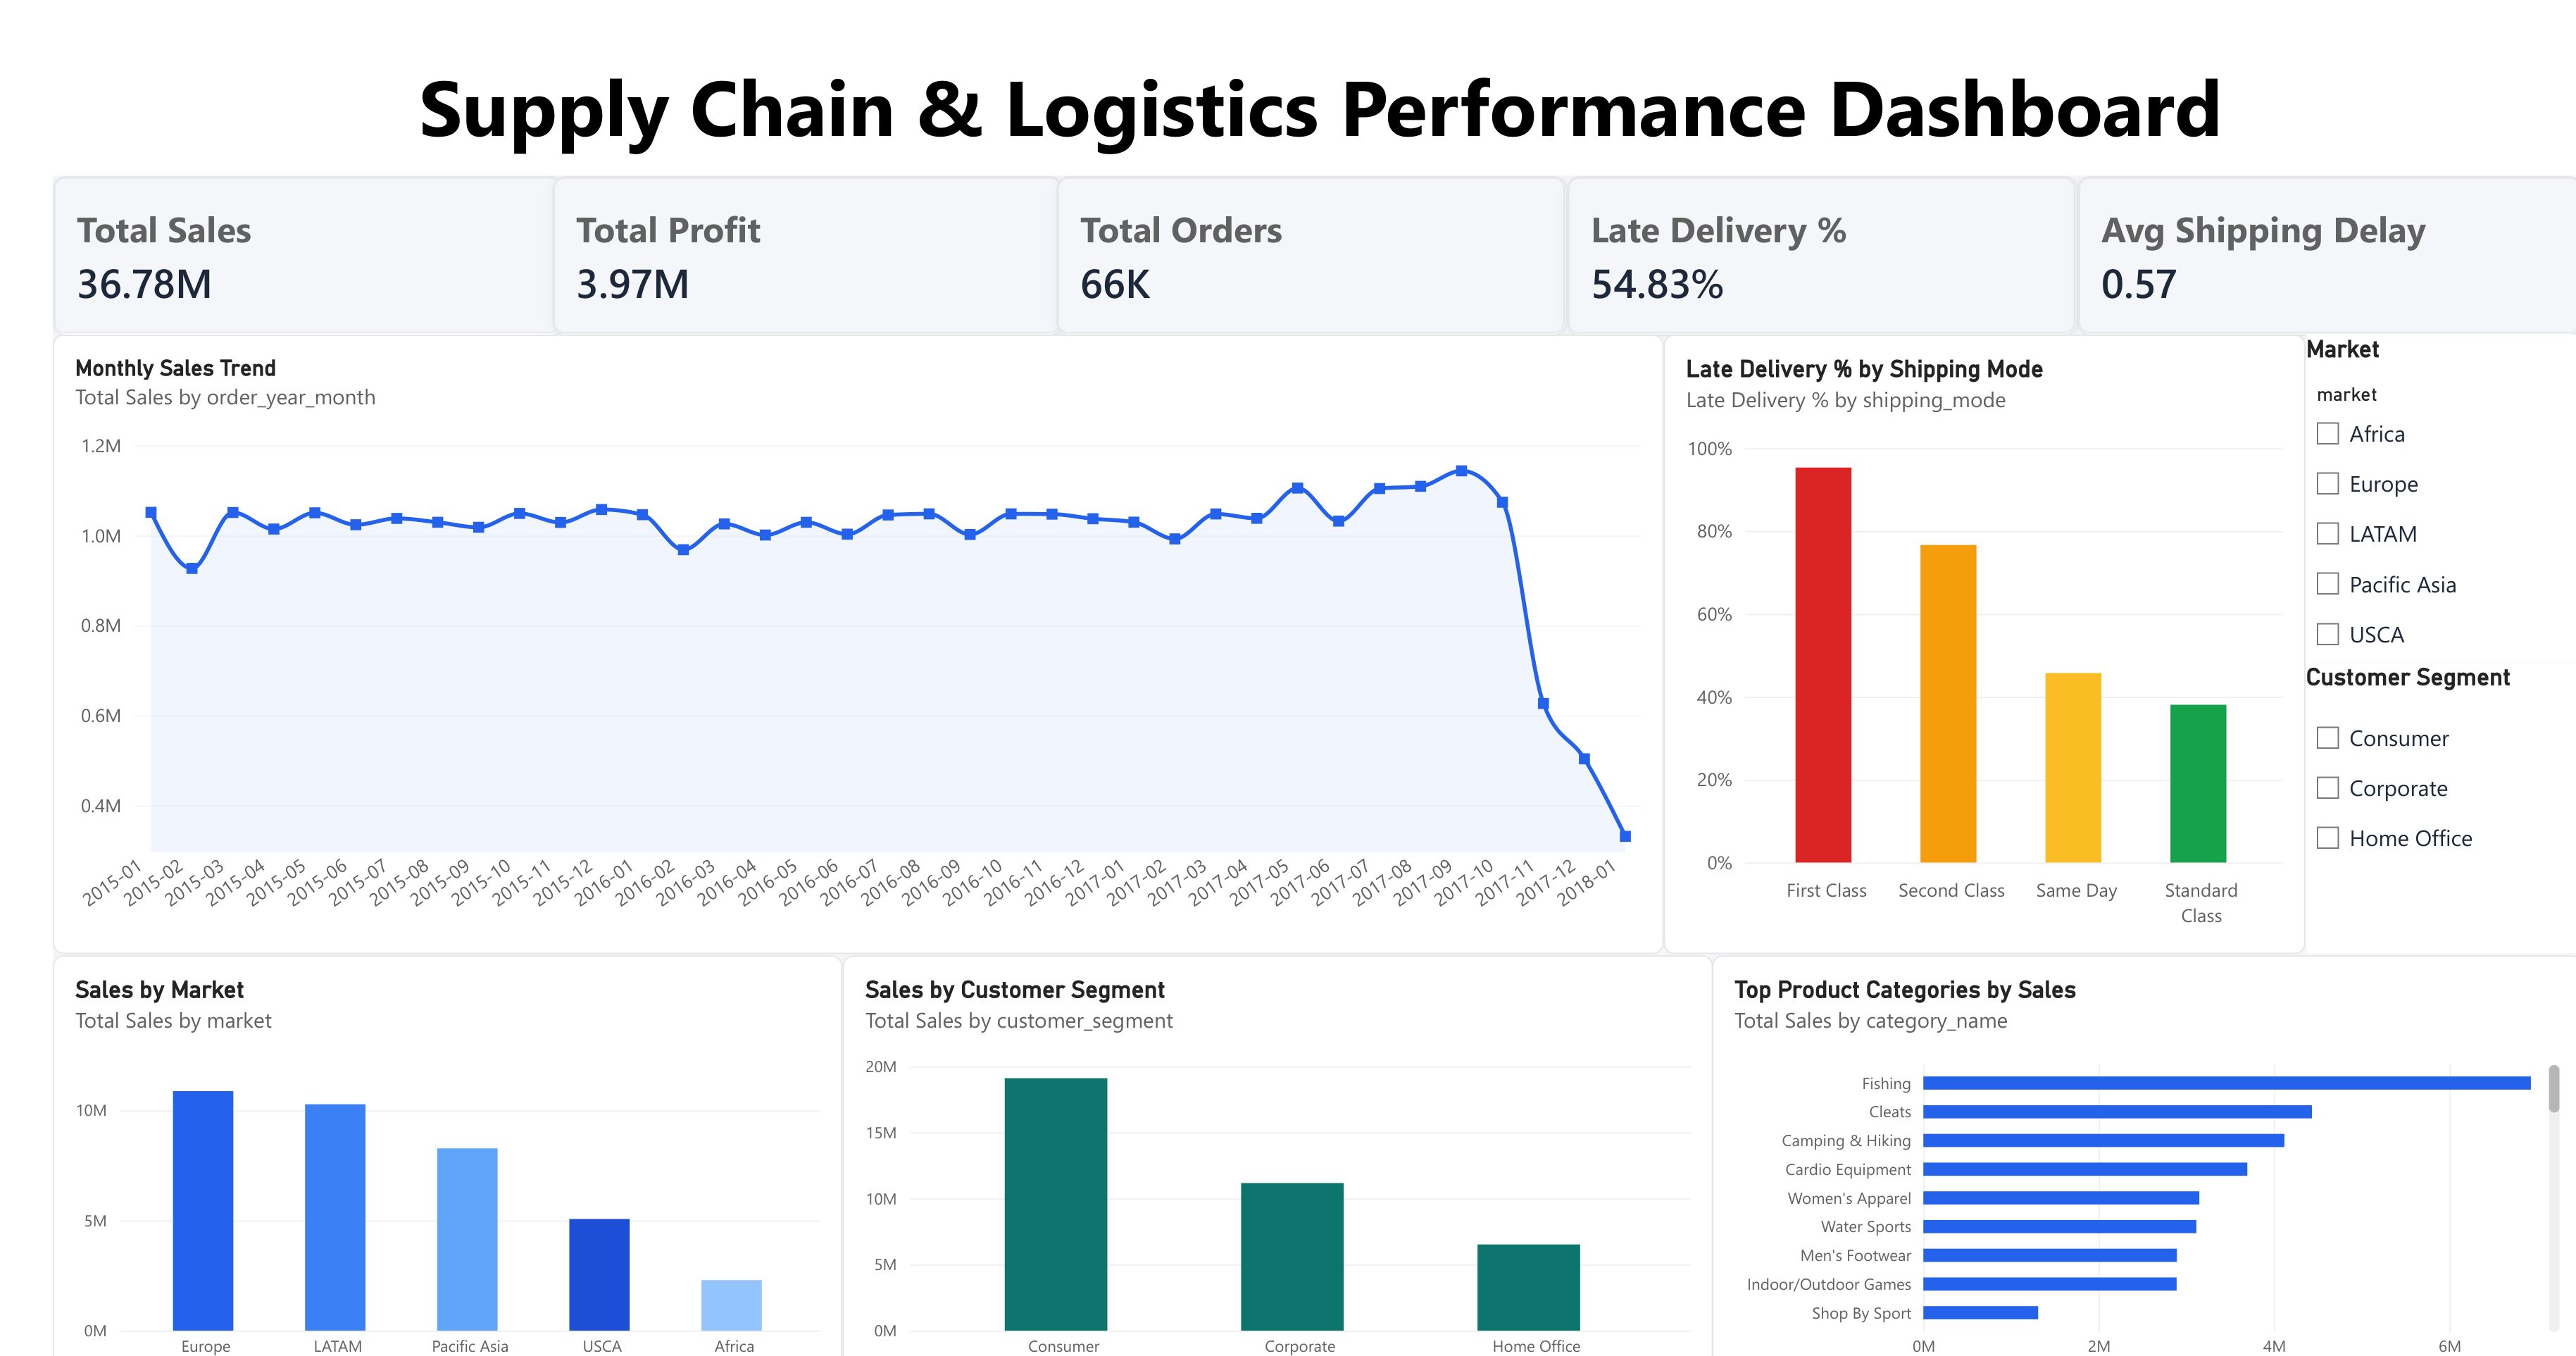

The dashboard page shown, as its layout file describes it:
{"tool":"powerbi","page":{"name":"Page 1","canvas":[1920,1080],"ordinal":0},"visuals":[{"type":"cardVisual","fields":{"Data":["supply_chain_analysis supply_chain_orders.Total Sales"]},"box":[0,92.9,386.6,121],"z":0},{"type":"cardVisual","fields":{"Data":["supply_chain_analysis supply_chain_orders.Total Profit"]},"box":[378,92.9,386.6,121],"z":1000},{"type":"cardVisual","fields":{"Data":["supply_chain_analysis supply_chain_orders.Total Orders"]},"box":[760.3,92.9,386.6,121],"z":2000},{"type":"cardVisual","fields":{"Data":["supply_chain_analysis supply_chain_orders.Late Delivery %"]},"box":[1147,92.9,386.6,121],"z":3000},{"type":"cardVisual","fields":{"Data":["supply_chain_analysis supply_chain_orders.Avg Shipping Delay"]},"box":[1533.6,92.9,382.3,121],"z":4000},{"type":"lineChart","title":"Monthly Sales Trend","fields":{"Category":["supply_chain_analysis supply_chain_orders.order_year_month"],"Y":["supply_chain_analysis supply_chain_orders.Total Sales"]},"box":[0,213.8,1220.4,468.7],"z":5000},{"type":"clusteredColumnChart","title":"Sales by Market","fields":{"Category":["supply_chain_analysis supply_chain_orders.market"],"Y":["supply_chain_analysis supply_chain_orders.Total Sales"]},"box":[0,682.6,598.3,326.2],"z":6000},{"type":"columnChart","title":"Late Delivery % by Shipping Mode","fields":{"Category":["supply_chain_analysis supply_chain_orders.shipping_mode"],"Y":["supply_chain_analysis supply_chain_orders.Late Delivery %"]},"box":[1220.4,213.8,486,468.7],"z":7000},{"type":"clusteredBarChart","title":"Top Product Categories by Sales","fields":{"Category":["supply_chain_analysis supply_chain_orders.category_name"],"Y":["supply_chain_analysis supply_chain_orders.Total Sales"]},"box":[1257.1,682.6,658.8,326.2],"z":8000},{"type":"clusteredColumnChart","title":"Sales by Customer Segment","fields":{"Category":["supply_chain_analysis supply_chain_orders.customer_segment"],"Y":["supply_chain_analysis supply_chain_orders.Total Sales"]},"box":[598.3,682.6,658.8,326.2],"z":9000},{"type":"slicer","title":"Market","fields":{"Values":["supply_chain_analysis supply_chain_orders.market"]},"box":[1706.4,213.8,213.8,248.4],"z":10000},{"type":"slicer","title":"Customer Segment","fields":{"Values":["supply_chain_analysis supply_chain_orders.customer_segment"]},"box":[1706.4,462.2,213.8,220.3],"z":11000},{"type":"textbox","box":[0,0,1920.2,92.9],"z":12000}]}

Visuals, with their boxes on the page's 1920x1080 design canvas (x1, y1, x2, y2). These are canvas units, not pixel positions in the 2576x1356 screenshot, which may show the page scaled, cropped or inside an application window:
cardVisual - supply_chain_analysis supply_chain_orders.Total Sales: crop(0, 93, 387, 214)
cardVisual - supply_chain_analysis supply_chain_orders.Total Profit: crop(378, 93, 765, 214)
cardVisual - supply_chain_analysis supply_chain_orders.Total Orders: crop(760, 93, 1147, 214)
cardVisual - supply_chain_analysis supply_chain_orders.Late Delivery %: crop(1147, 93, 1534, 214)
cardVisual - supply_chain_analysis supply_chain_orders.Avg Shipping Delay: crop(1534, 93, 1916, 214)
"Monthly Sales Trend" lineChart: crop(0, 214, 1220, 682)
"Sales by Market" clusteredColumnChart: crop(0, 683, 598, 1009)
"Late Delivery % by Shipping Mode" columnChart: crop(1220, 214, 1706, 682)
"Top Product Categories by Sales" clusteredBarChart: crop(1257, 683, 1916, 1009)
"Sales by Customer Segment" clusteredColumnChart: crop(598, 683, 1257, 1009)
"Market" slicer: crop(1706, 214, 1920, 462)
"Customer Segment" slicer: crop(1706, 462, 1920, 682)
textbox: crop(0, 0, 1920, 93)
